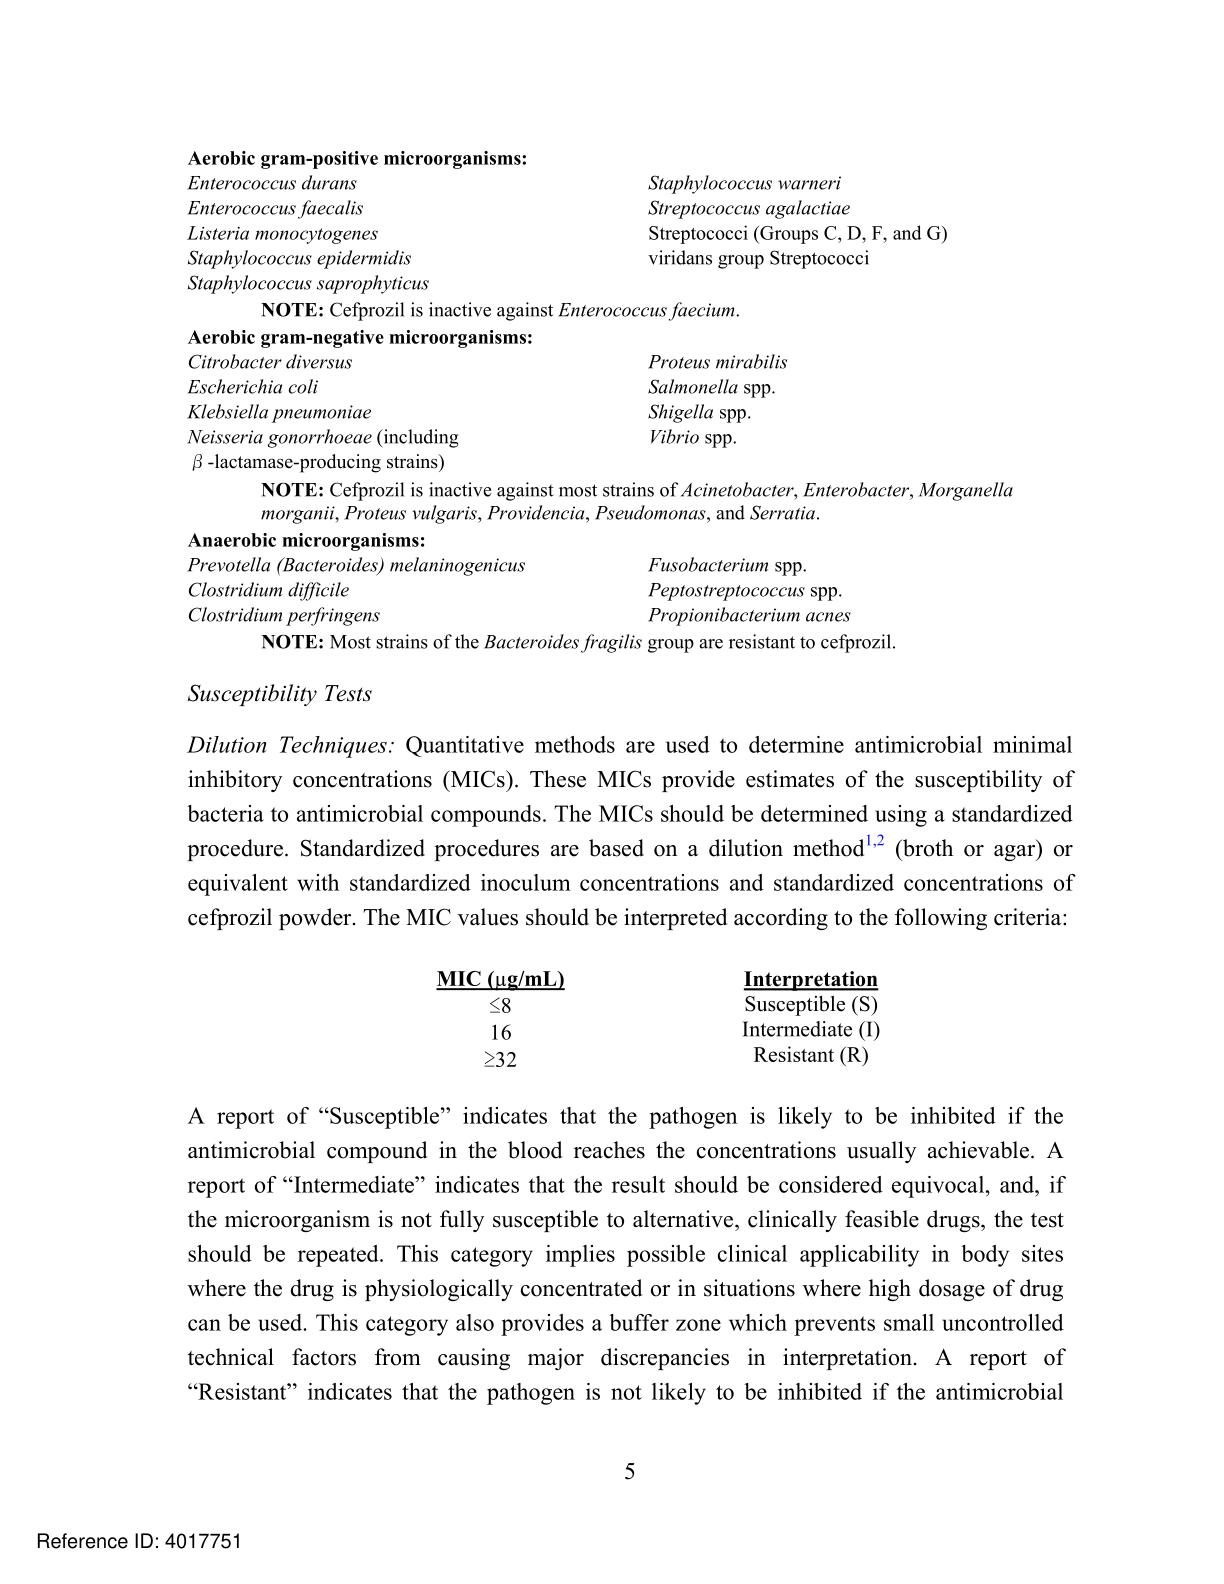nolines: (185, 172, 951, 294), (183, 348, 792, 473), (183, 554, 856, 627), (431, 966, 885, 1067)
